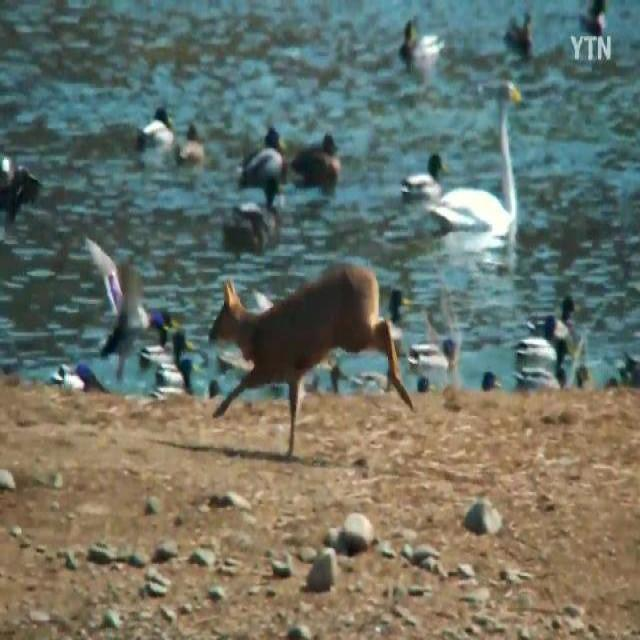deer: (210, 257, 414, 463)
